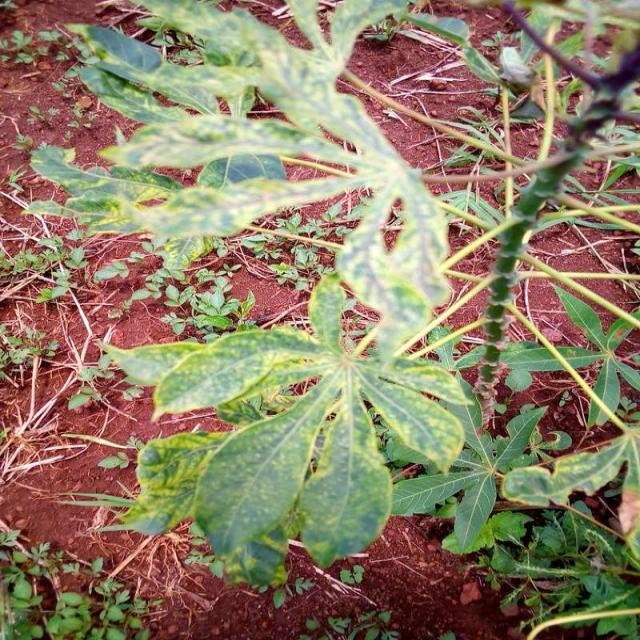cassava leaf: (30, 0, 477, 589), (104, 270, 472, 587)
